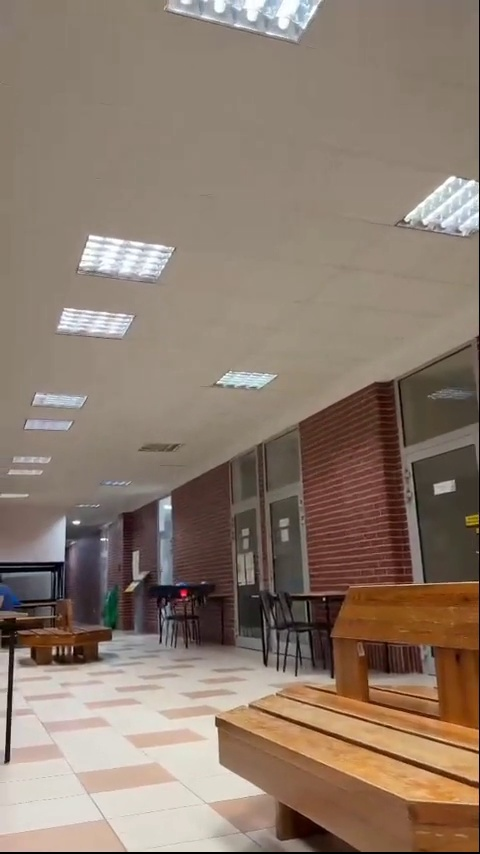drone: (153, 578, 216, 602)
